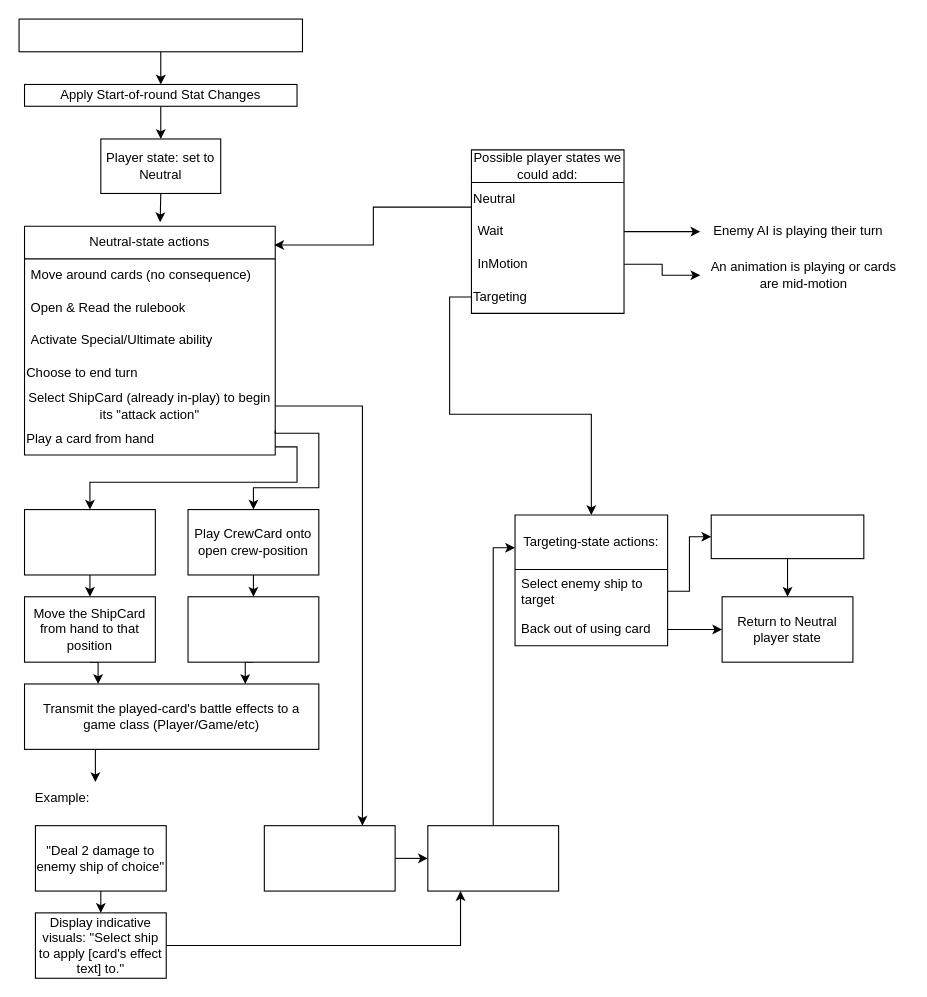
Image size: 927x997. Some labels were removed from this diagram. The shapes that lost their labels are listed below. From the top down, each one's centre as x and y in pixels, then its label:
(160,35): Setup player and opponent cards, and statstics (health,energy,etc)
(89,541): Play ShipCard onto an open ship-position
(787,536): Run the card's effect onto the targeted enemy ship
(253,629): Move the CrewCard from hand to that position
(329,858): Display indicative visuals: "Select ship to attack"
(493,858): Change player state to "targeting"
